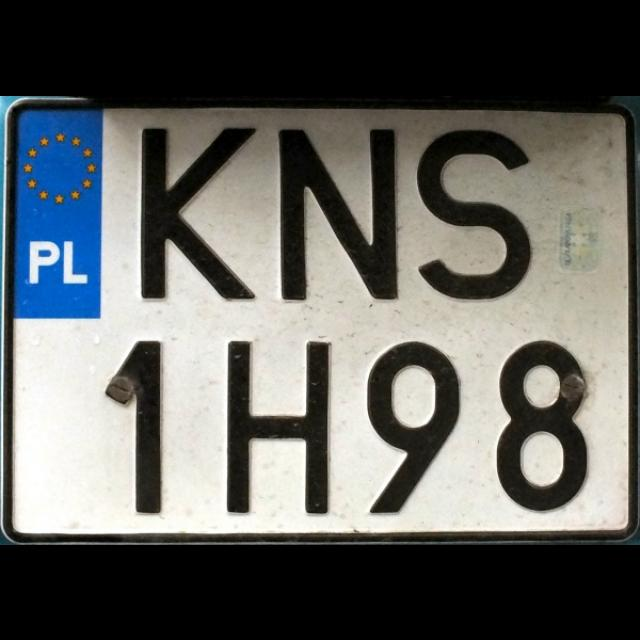pl_license_plate: (16, 108, 626, 524)
